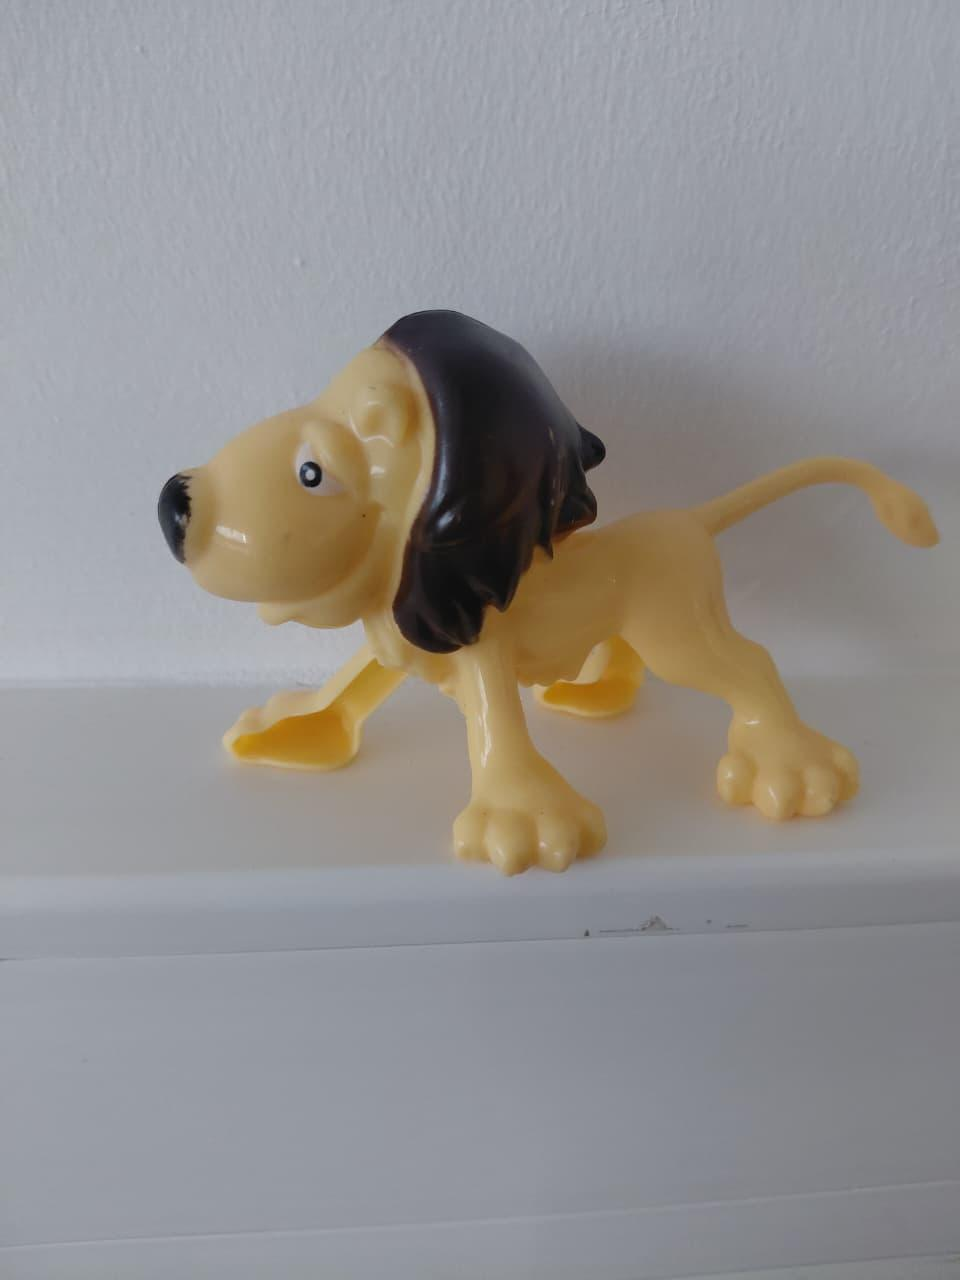lion: (145, 285, 948, 915)
